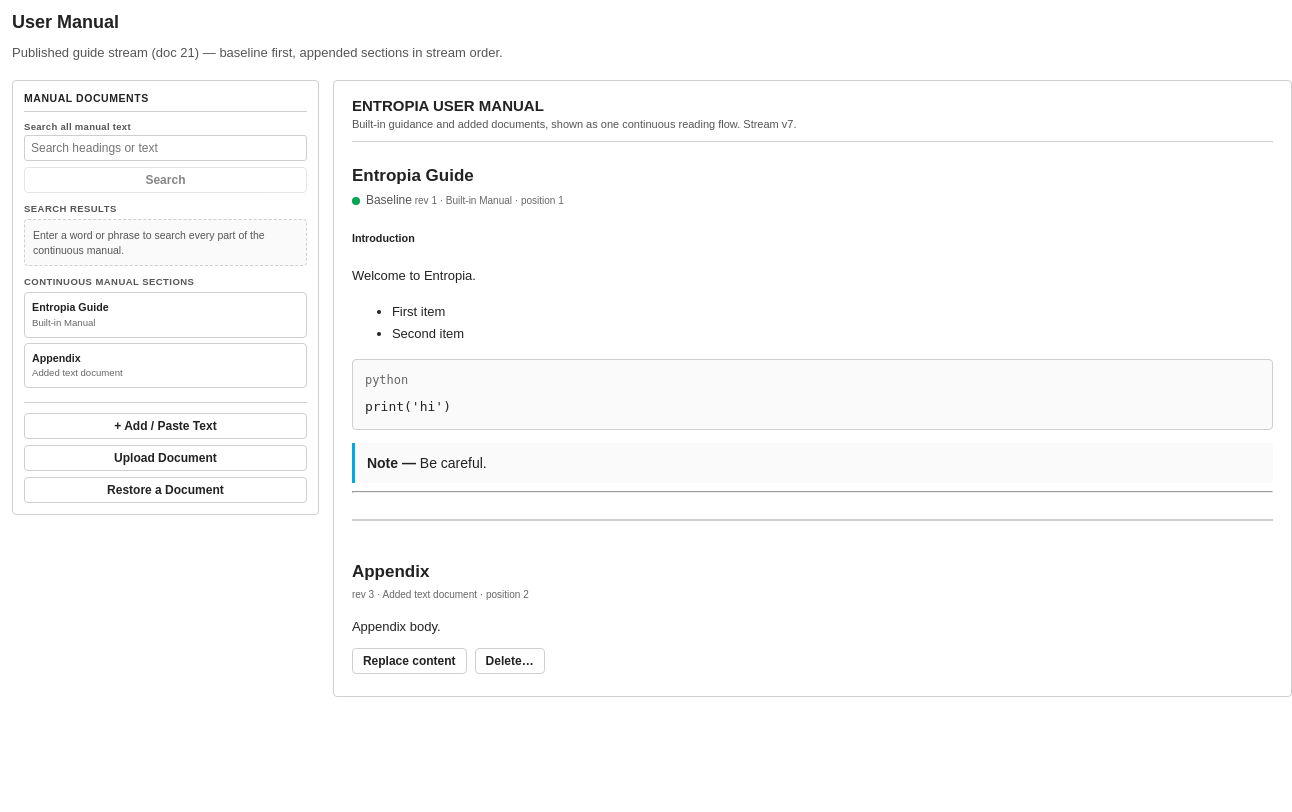
Test case: User Manual page › searches only on submit and renders chunk results verbatim
Expected: the text "Appendix body." is shown, [352,619,441,634]
Type "appendix" into the search field named "Search query" at (165, 148), box [24,135,307,161]
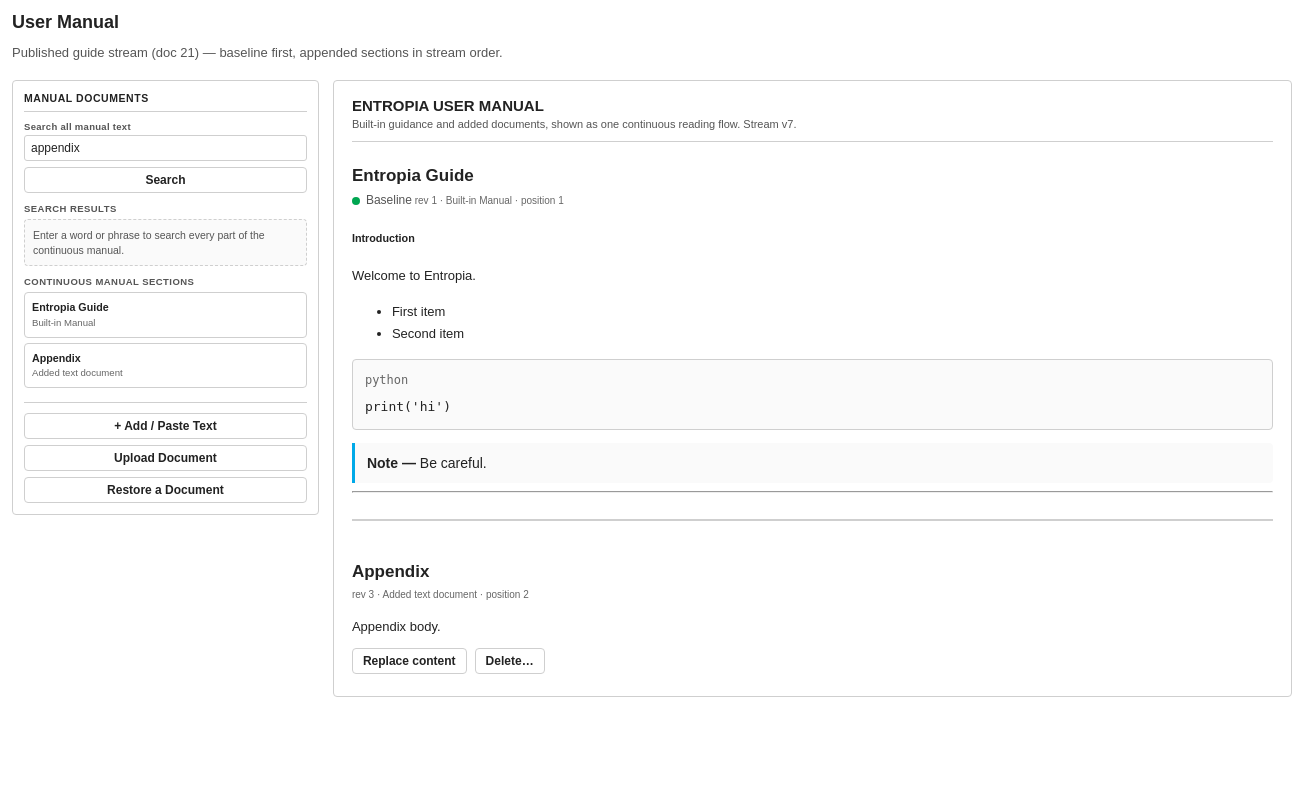
Click the button "Search" at (165, 180), box [24,167,307,193]
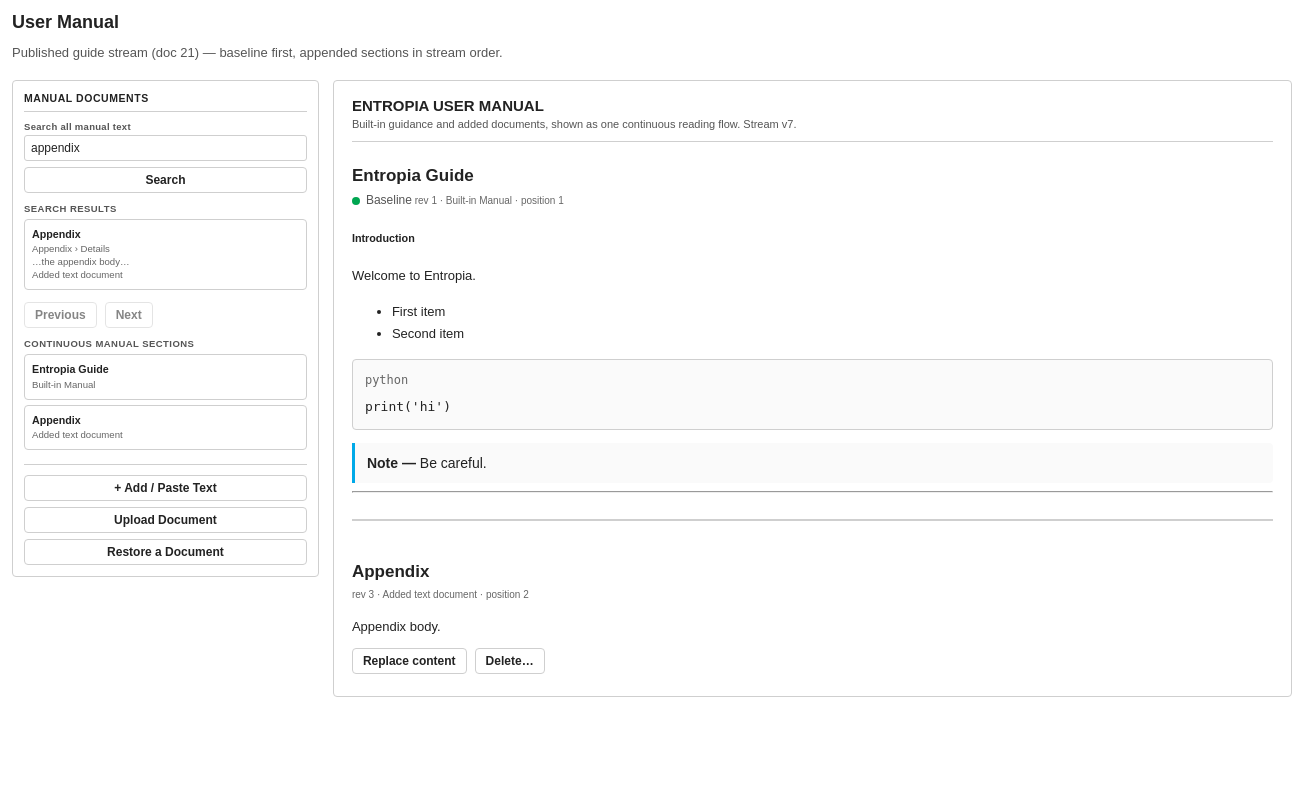
Expected: the text "…the appendix body…" is shown, [32,256,130,267]
Expected: the text "Appendix › Details" is shown, [32,243,110,254]
